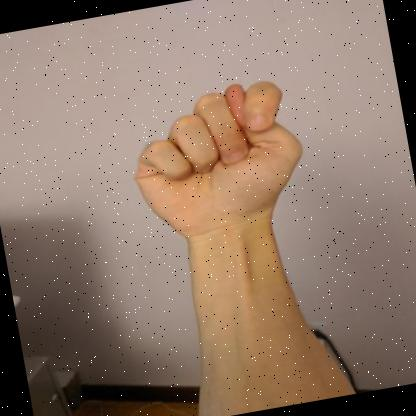T: (134, 80, 302, 244)
